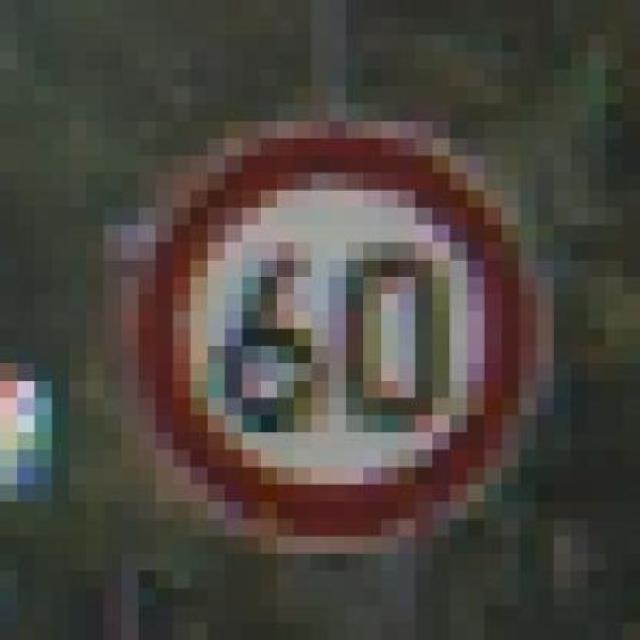forb_speed_over_60: (138, 130, 534, 547)
